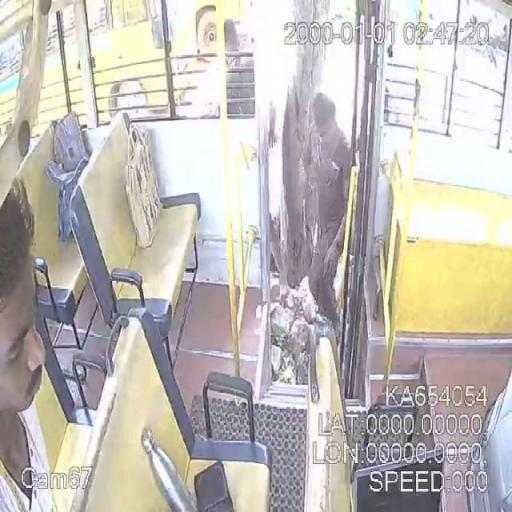persona: (0, 177, 55, 511), (300, 91, 354, 341)
